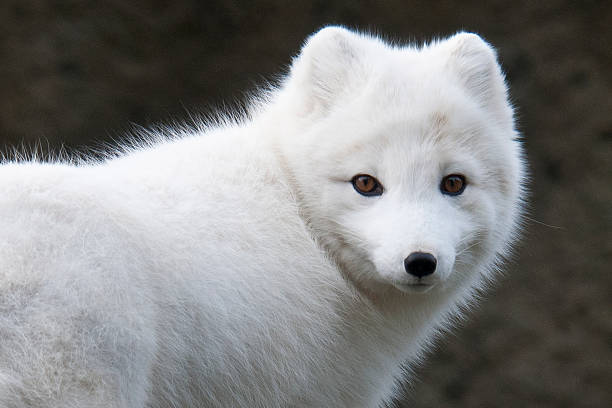arcticfox: (289, 30, 508, 297)
